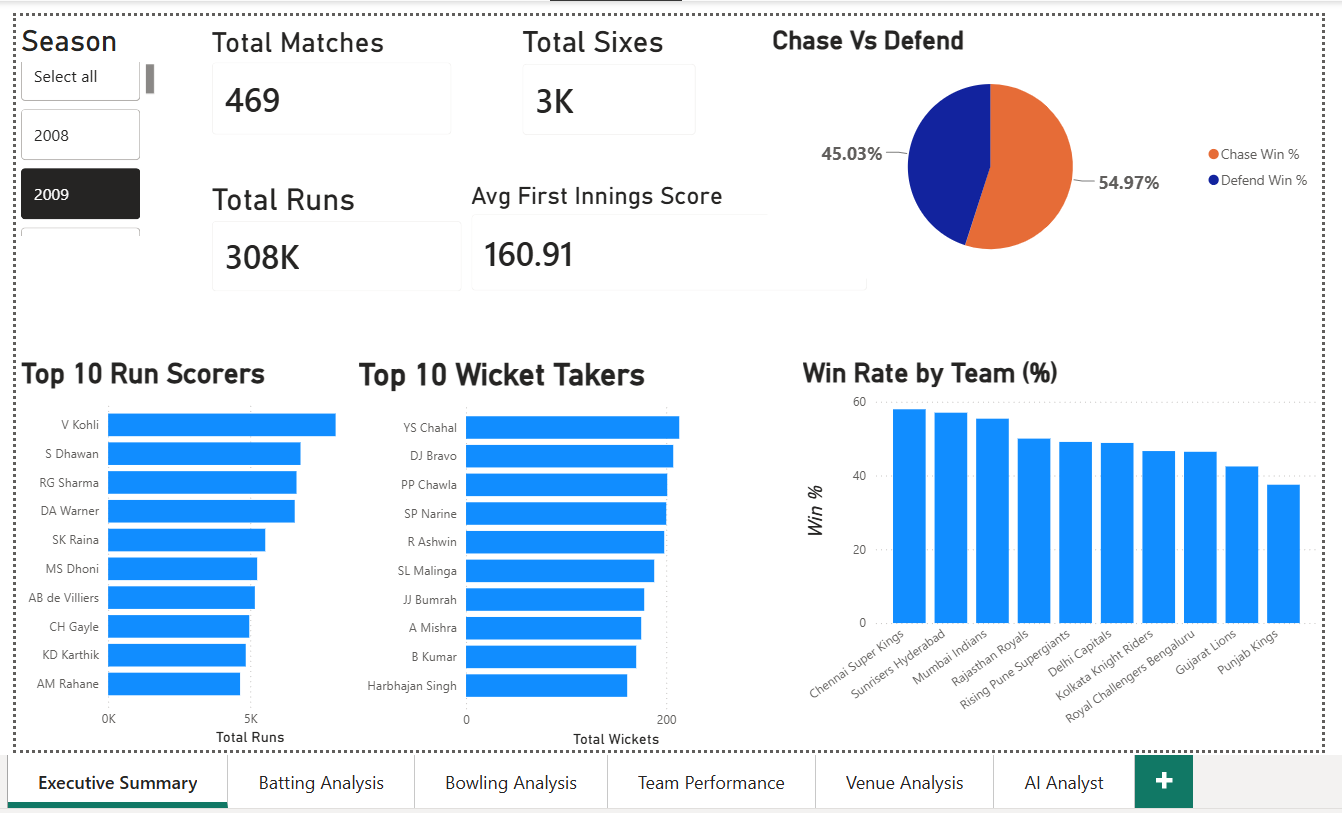

The dashboard page shown, as its layout file describes it:
{"tool":"powerbi","page":{"name":"Executive Summary","canvas":[1280,720],"ordinal":0},"visuals":[{"type":"advancedSlicerVisual","title":"Season","fields":{"Values":["mart_team_performance.season"]},"box":[0,8,140,210],"z":0},{"type":"cardVisual","title":"Total Matches","fields":{"Data":["Sum(mart_team_performance.matches_played)"]},"box":[186.7,8.3,245,113.3],"z":1000},{"type":"cardVisual","title":"Total Runs","fields":{"Data":["Sum(mart_batting.total_runs)"]},"box":[186.7,161.7,255,113.3],"z":2000},{"type":"cardVisual","title":"Total Sixes","fields":{"Data":["Sum(mart_team_performance.total_sixes)"]},"box":[491.7,8.3,180,113.3],"z":3000},{"type":"cardVisual","title":"Avg First Innings Score","fields":{"Data":["Avg(mart_venue_stats.avg_first_innings_score)"]},"box":[441.7,161.7,398.3,113.3],"z":4000},{"type":"clusteredBarChart","title":"Top 10 Run Scorers","fields":{"Category":["mart_batting.player_name"],"Y":["Sum(mart_batting.total_runs)"]},"box":[0,334.5,383.6,385.5],"z":5000},{"type":"clusteredBarChart","title":"Top 10 Wicket Takers","fields":{"Category":["mart_bowling.player_name"],"Y":["Sum(mart_bowling.total_wickets)"]},"box":[330.3,333.6,419.4,387],"z":6000},{"type":"clusteredColumnChart","title":"Win Rate by Team (%)","fields":{"Category":["mart_team_performance.team"],"Y":["Avg(mart_team_performance.win_pct)"]},"box":[766,334,514,386],"z":7000},{"type":"pieChart","title":"Chase Vs Defend ","fields":{"Y":["mart_team_performance.Chase Win %","mart_team_performance.Defend Win %"]},"box":[736.7,8.3,543.3,248.3],"z":8000}]}

Visuals, with their boxes on the page's 1280x720 design canvas (x1, y1, x2, y2). These are canvas units, not pixel positions in the 1342x813 screenshot, which may show the page scaled, cropped or inside an application window:
"Season" advancedSlicerVisual: <region>0, 8, 140, 218</region>
"Total Matches" cardVisual: <region>187, 8, 432, 122</region>
"Total Runs" cardVisual: <region>187, 162, 442, 275</region>
"Total Sixes" cardVisual: <region>492, 8, 672, 122</region>
"Avg First Innings Score" cardVisual: <region>442, 162, 840, 275</region>
"Top 10 Run Scorers" clusteredBarChart: <region>0, 334, 384, 720</region>
"Top 10 Wicket Takers" clusteredBarChart: <region>330, 334, 750, 721</region>
"Win Rate by Team (%)" clusteredColumnChart: <region>766, 334, 1280, 720</region>
"Chase Vs Defend " pieChart: <region>737, 8, 1280, 257</region>
